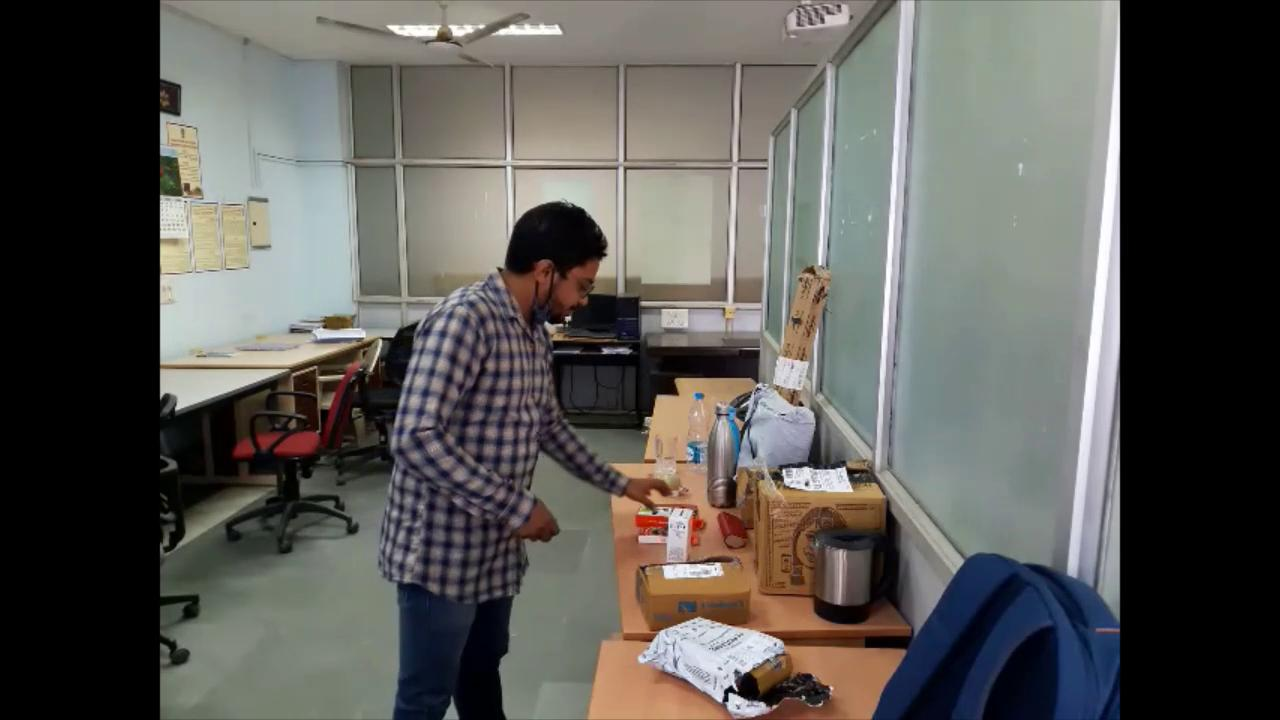Normal: (372, 194, 685, 720)
